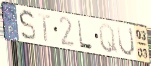2: (58, 16, 76, 48)
L: (76, 18, 94, 51)
Q: (98, 23, 119, 56)
S: (18, 8, 38, 42)
T: (37, 13, 52, 44)
U: (116, 24, 136, 58)
